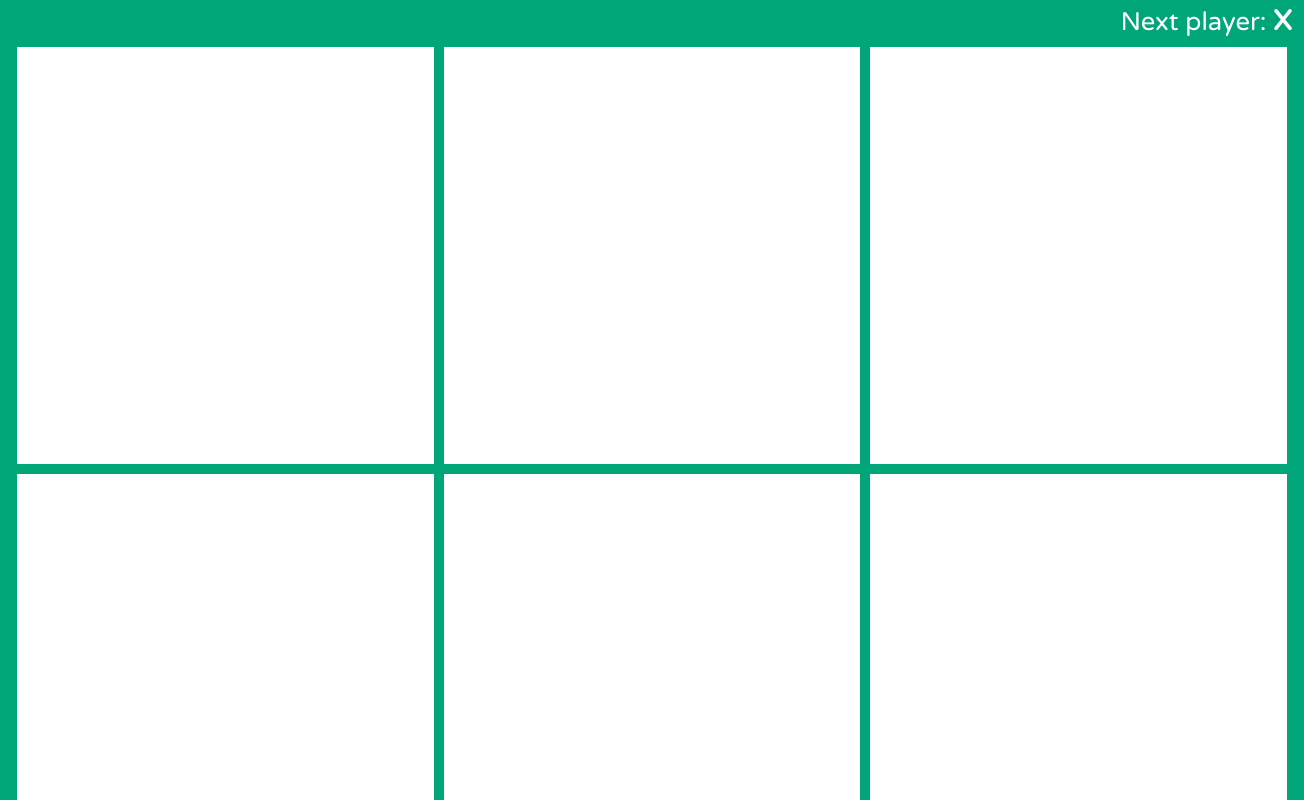
TicTacToe component › When reseting the game, game status should switch to "Next player: X"
The width and height of the screenshot is (1304, 800).
Click the 1st button at {"x": 225, "y": 256}, box [12, 42, 439, 469]
(page scrolled)
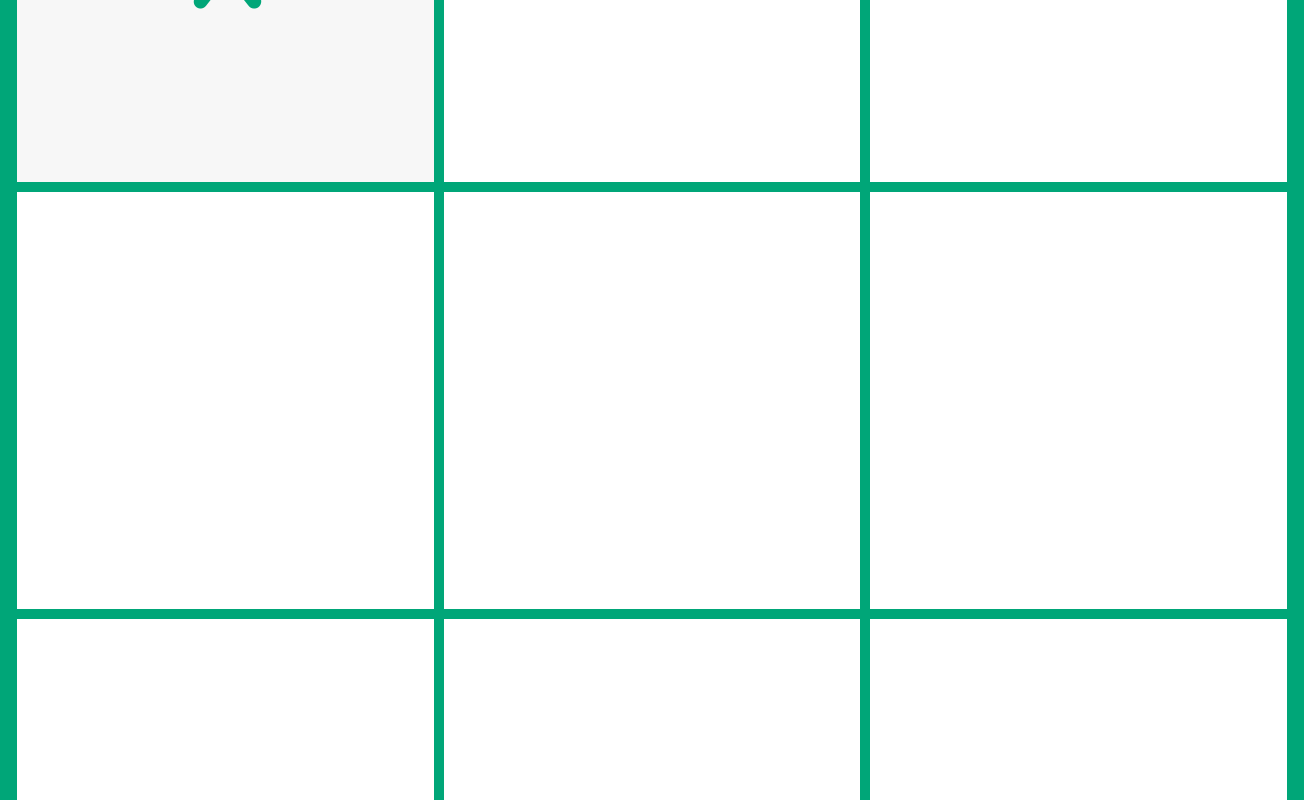
Click the 4th button at {"x": 225, "y": 400}, box [12, 187, 439, 614]
(page scrolled)
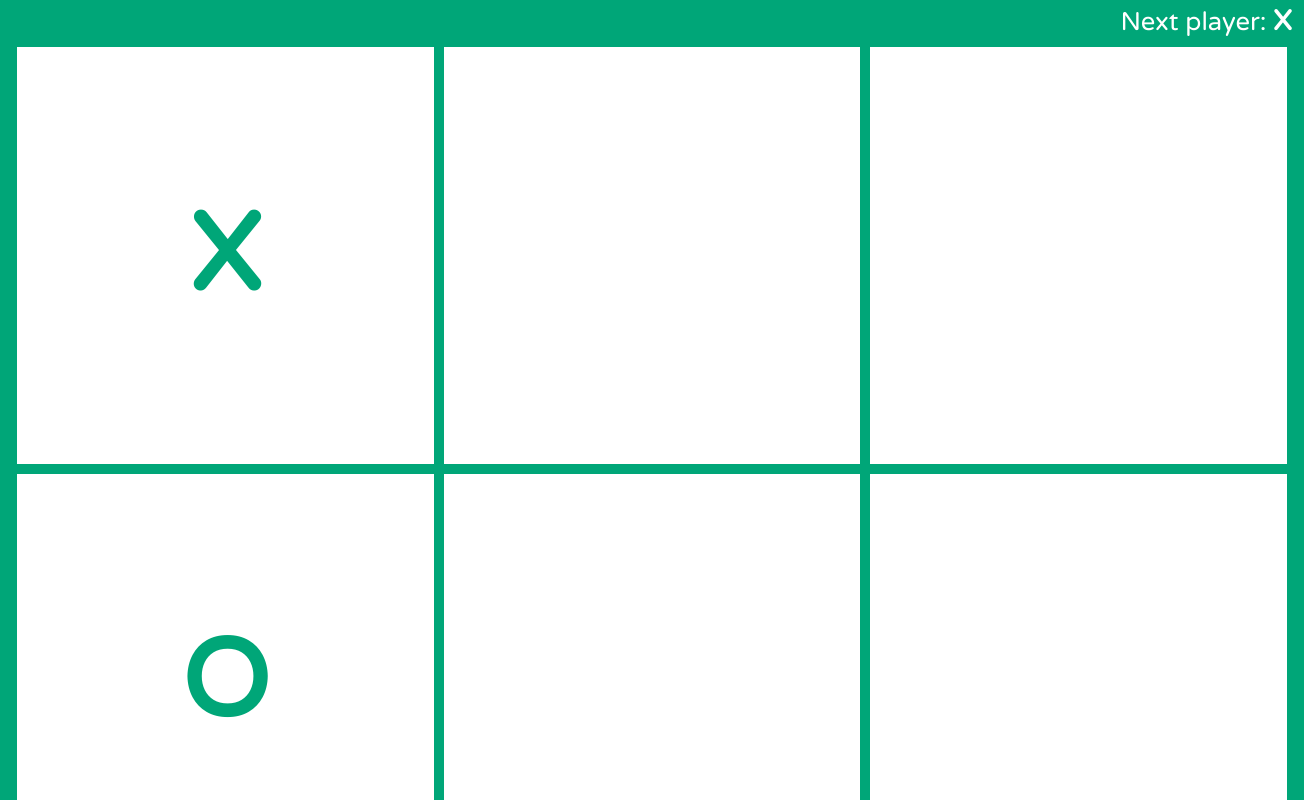
Click the 2nd button at {"x": 652, "y": 256}, box [439, 42, 865, 469]
(page scrolled)
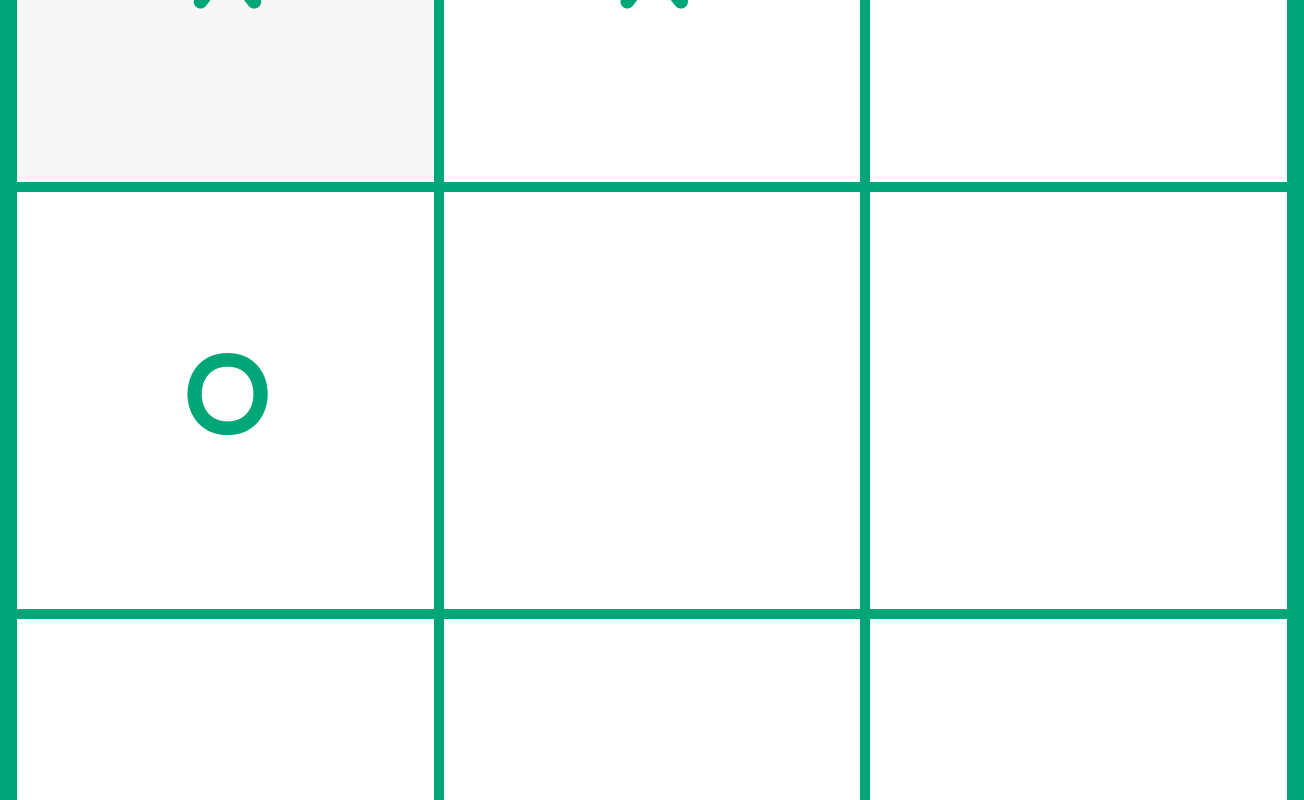
Click the 5th button at {"x": 652, "y": 400}, box [439, 187, 865, 614]
(page scrolled)
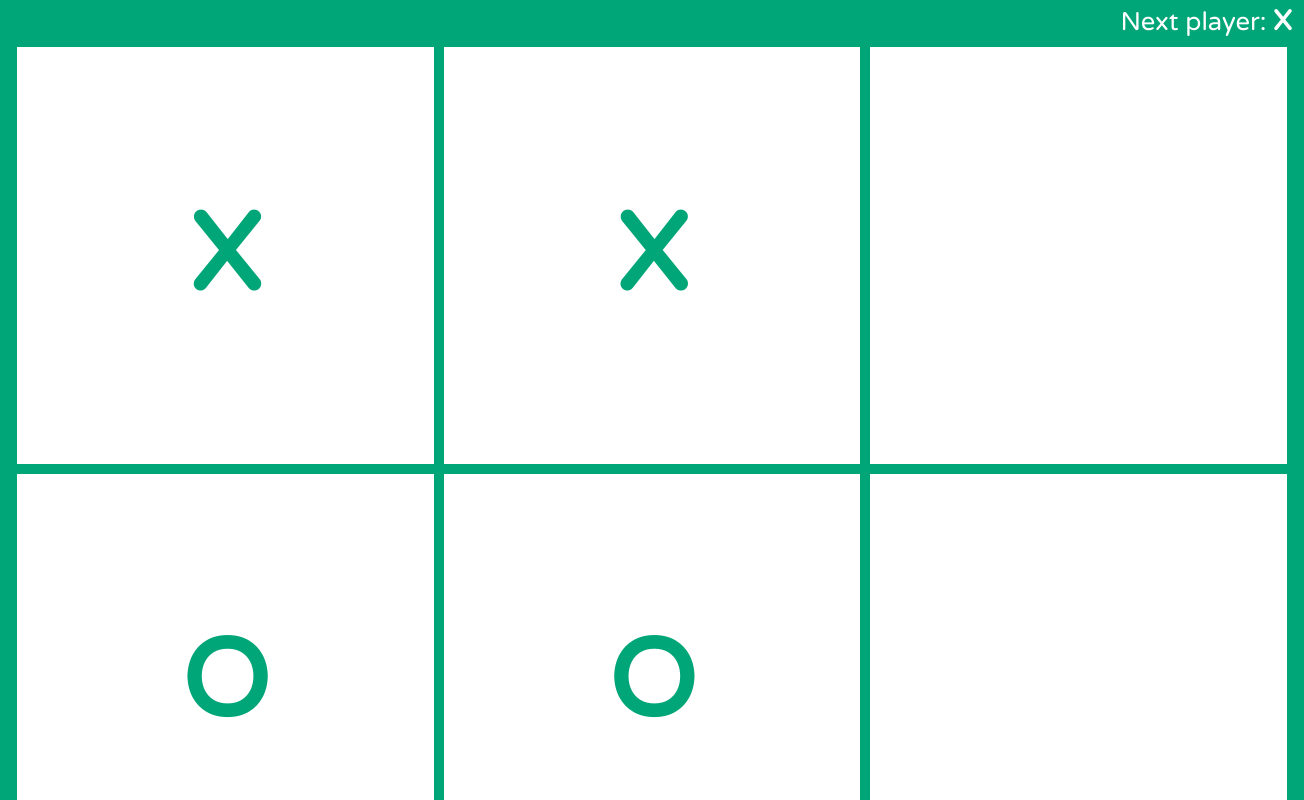
Click the 3rd button at {"x": 1079, "y": 256}, box [865, 42, 1292, 469]
(page scrolled)
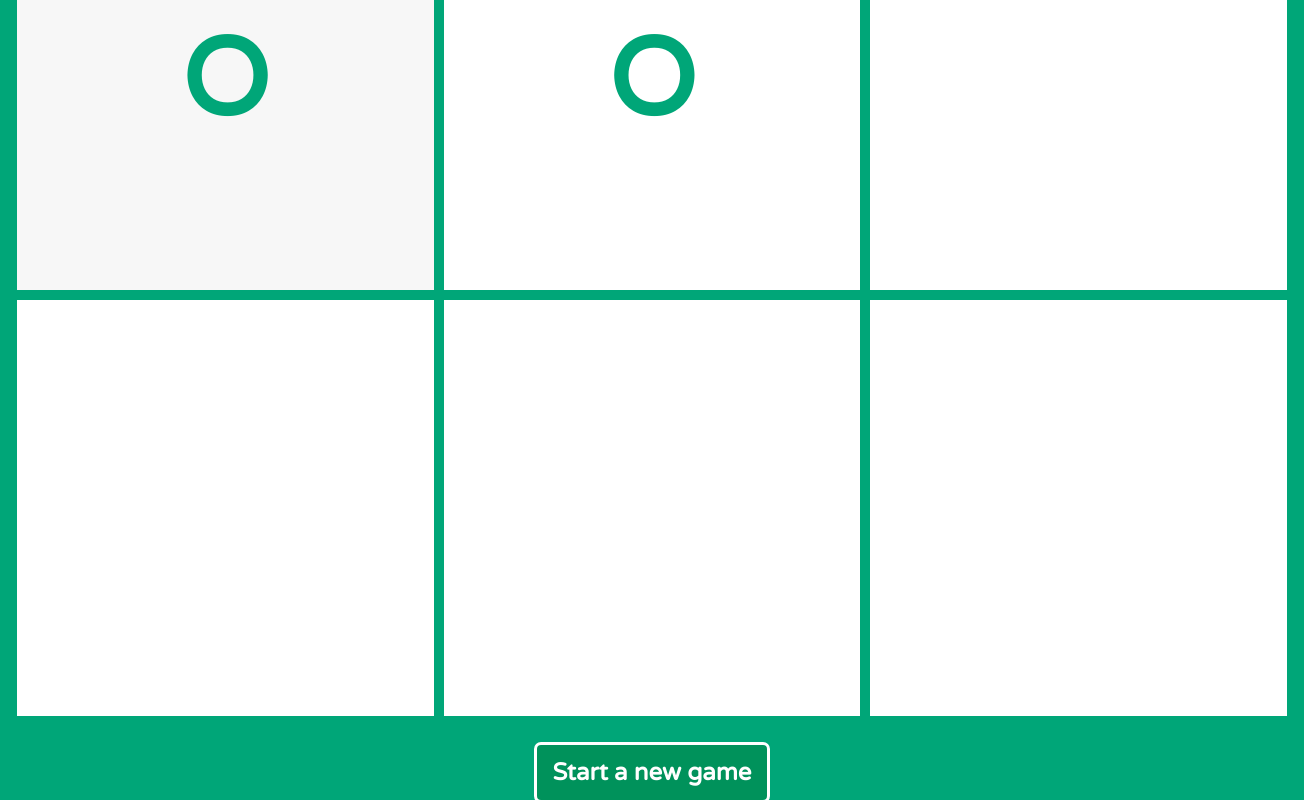
Click the button "Start a new game" at {"x": 652, "y": 773}, box [537, 745, 767, 799]
(page scrolled)
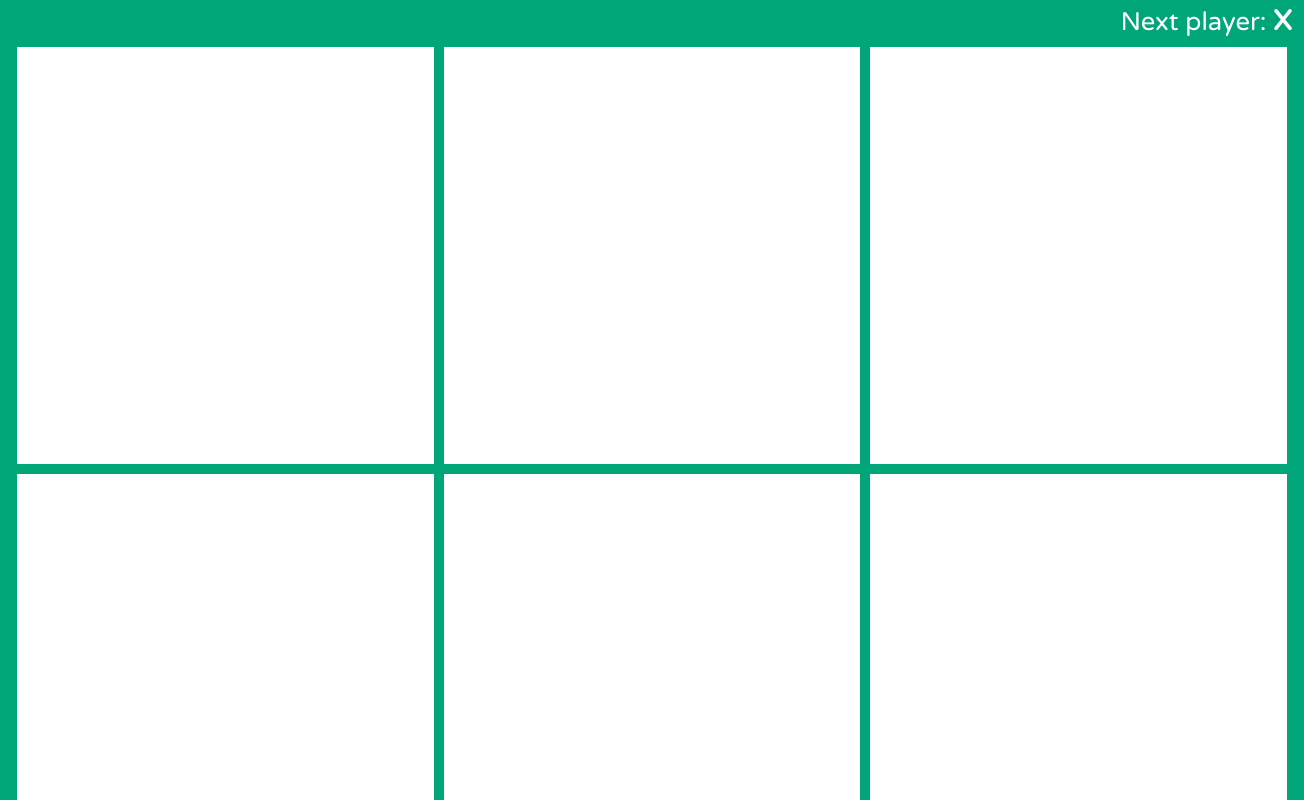
Expected: the element with id "game-status" reads "Next player: X", [1120, 4, 1292, 38]
